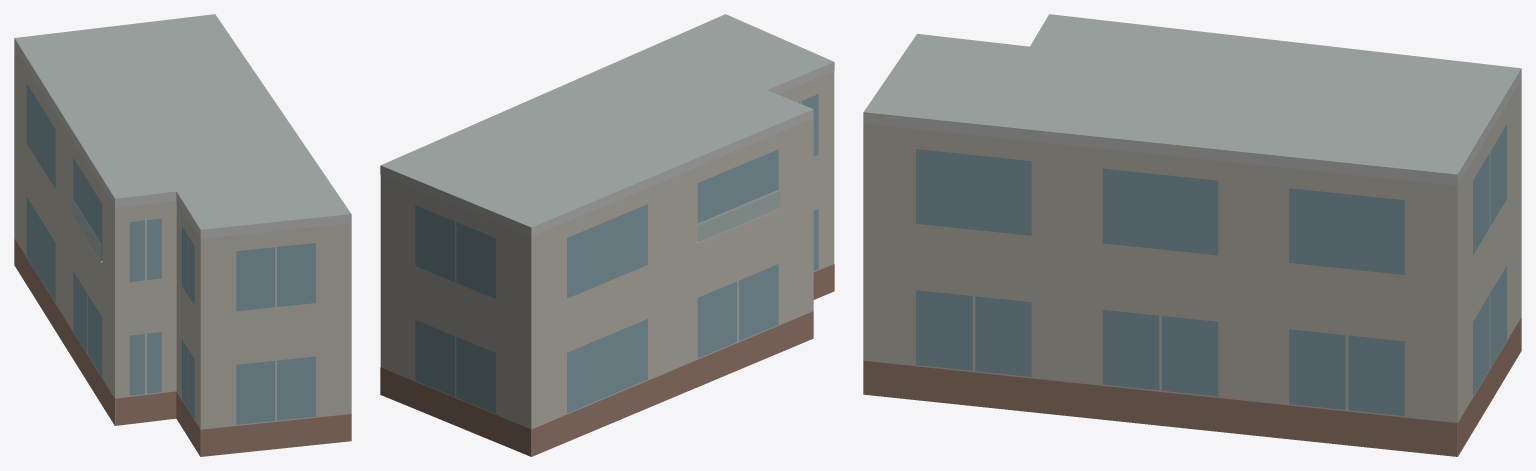
The model's file is survey-upis-32810678.glb.
The picture shows the model from 3 angles, left to right: view 1: azimuth 30°, elevation 25°; view 2: azimuth 150°, elevation 25°; view 3: azimuth 270°, elevation 25°; orthographic projection. The views are drawn at different scales.
Visible parts, largest first — view 1: survey-upis-32810678.tmp; view 2: survey-upis-32810678.tmp; view 3: survey-upis-32810678.tmp.
Part boxes in pixels (left/top/right/bottom): survey-upis-32810678.tmp: left=14, top=14, right=351, bottom=456; survey-upis-32810678.tmp: left=380, top=14, right=834, bottom=456; survey-upis-32810678.tmp: left=863, top=14, right=1521, bottom=456.
Size of the model in its own units: 7.45 by 6.1 by 12.9.
